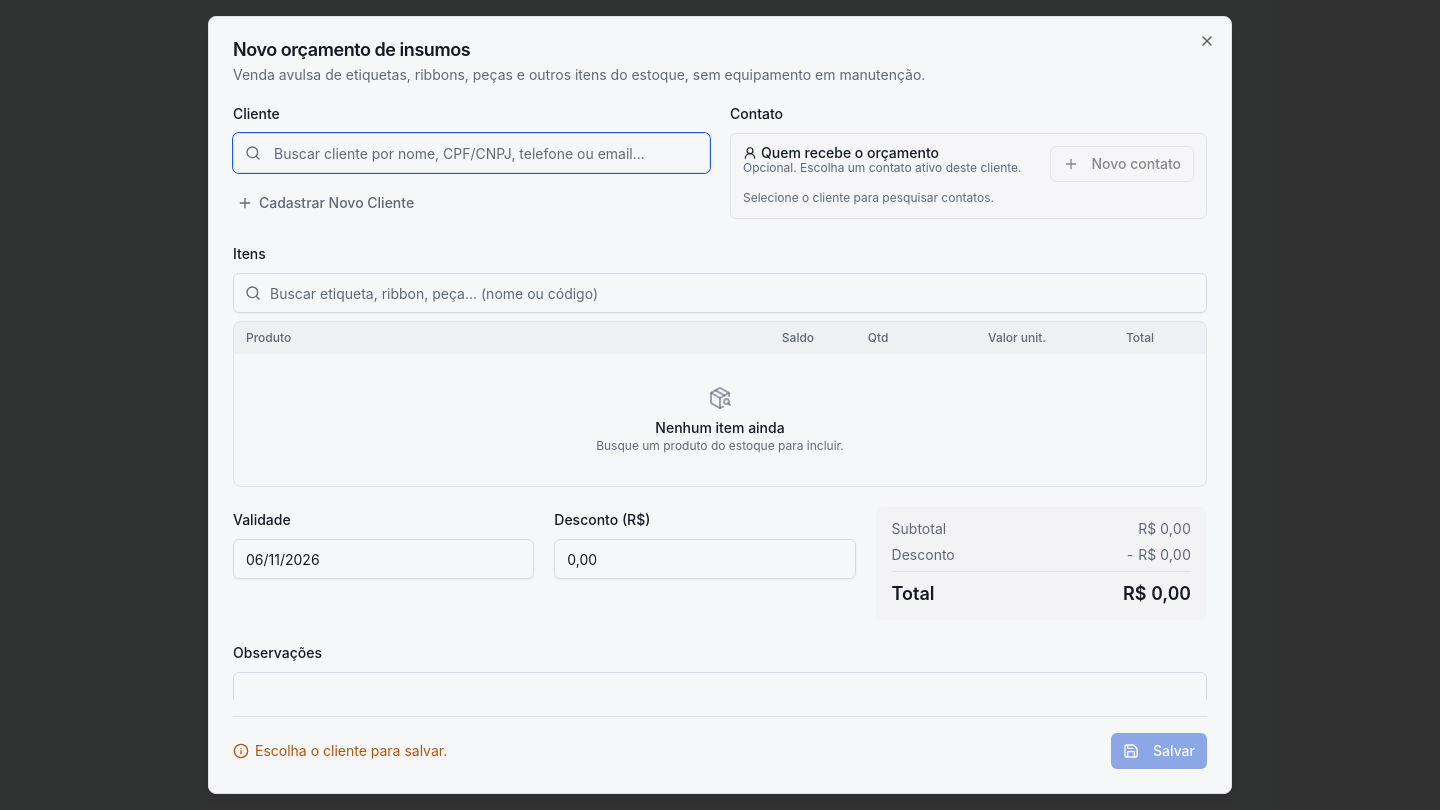
Test case: OrcamentoInsumosDialog: novo orçamento › não inclui o mesmo produto duas vezes: soma a quantidade
Step 1. Type "etiq" into the field named "Buscar produto do estoque" → (720, 293), box [233,273,1207,313]
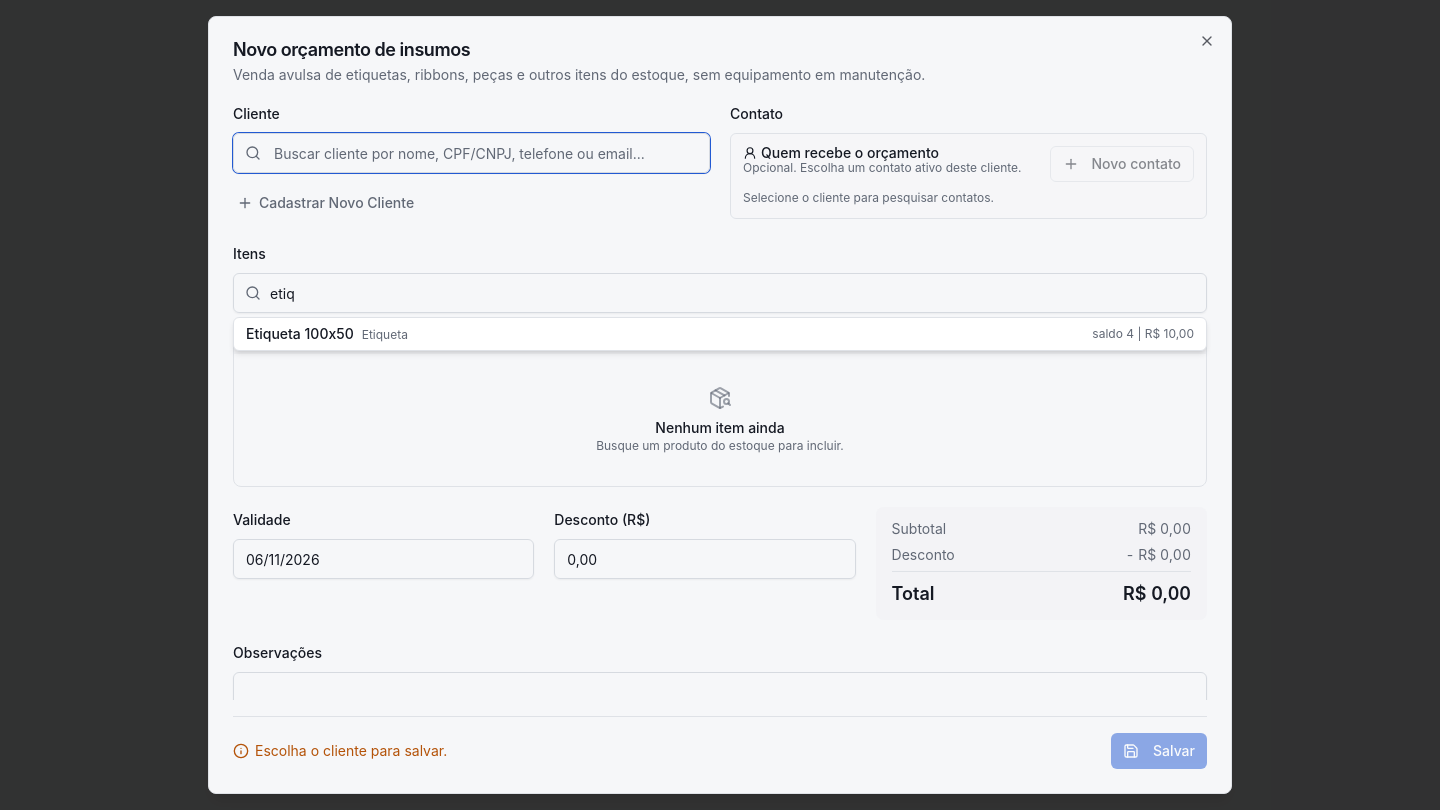
Step 2. Click the button "Etiqueta 100x50Etiqueta saldo 4 | R$ 10,00" → (300, 334), box [234,318,1206,350]
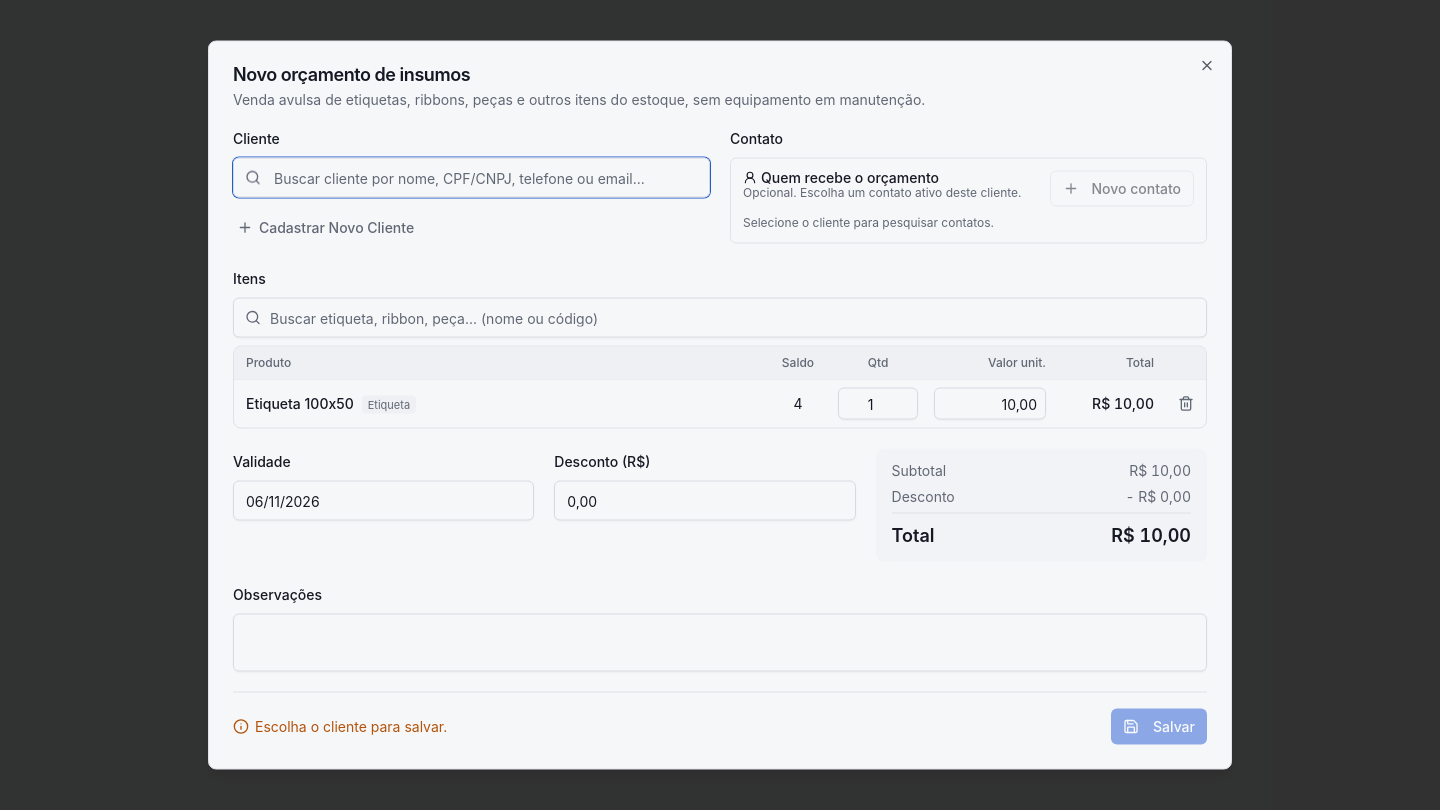
Step 3. Type "etiq" into the field named "Buscar produto do estoque" → (720, 318), box [233,298,1207,338]
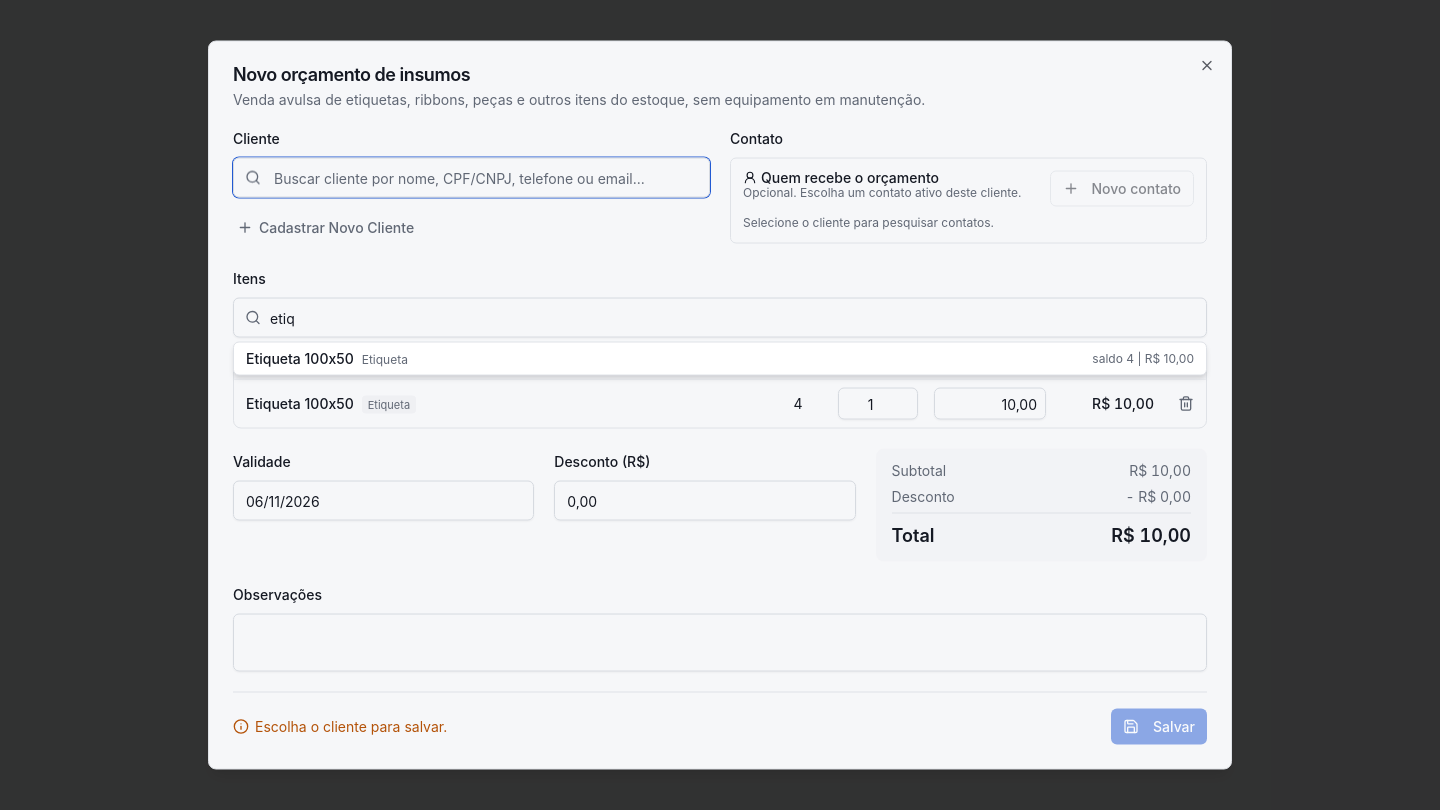
Step 4. Click the button "Etiqueta 100x50Etiqueta saldo 4 | R$ 10,00" → (300, 358), box [234,342,1206,374]
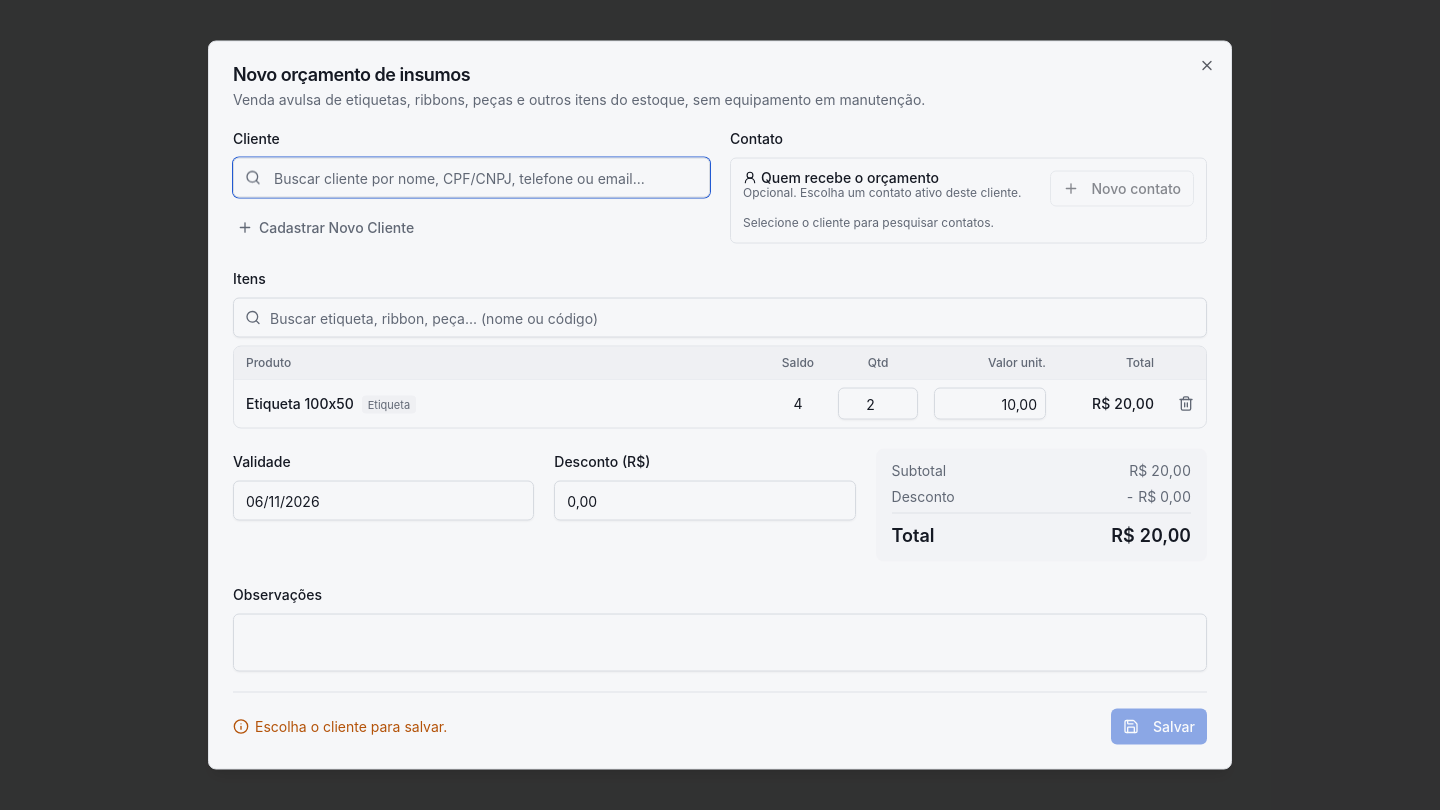
Now the number of number fields named "Quantidade de Etiqueta 100x50" is 1, box [838,388,918,420]
Now the number field named "Quantidade de Etiqueta 100x50" holds "2", box [838,388,918,420]
